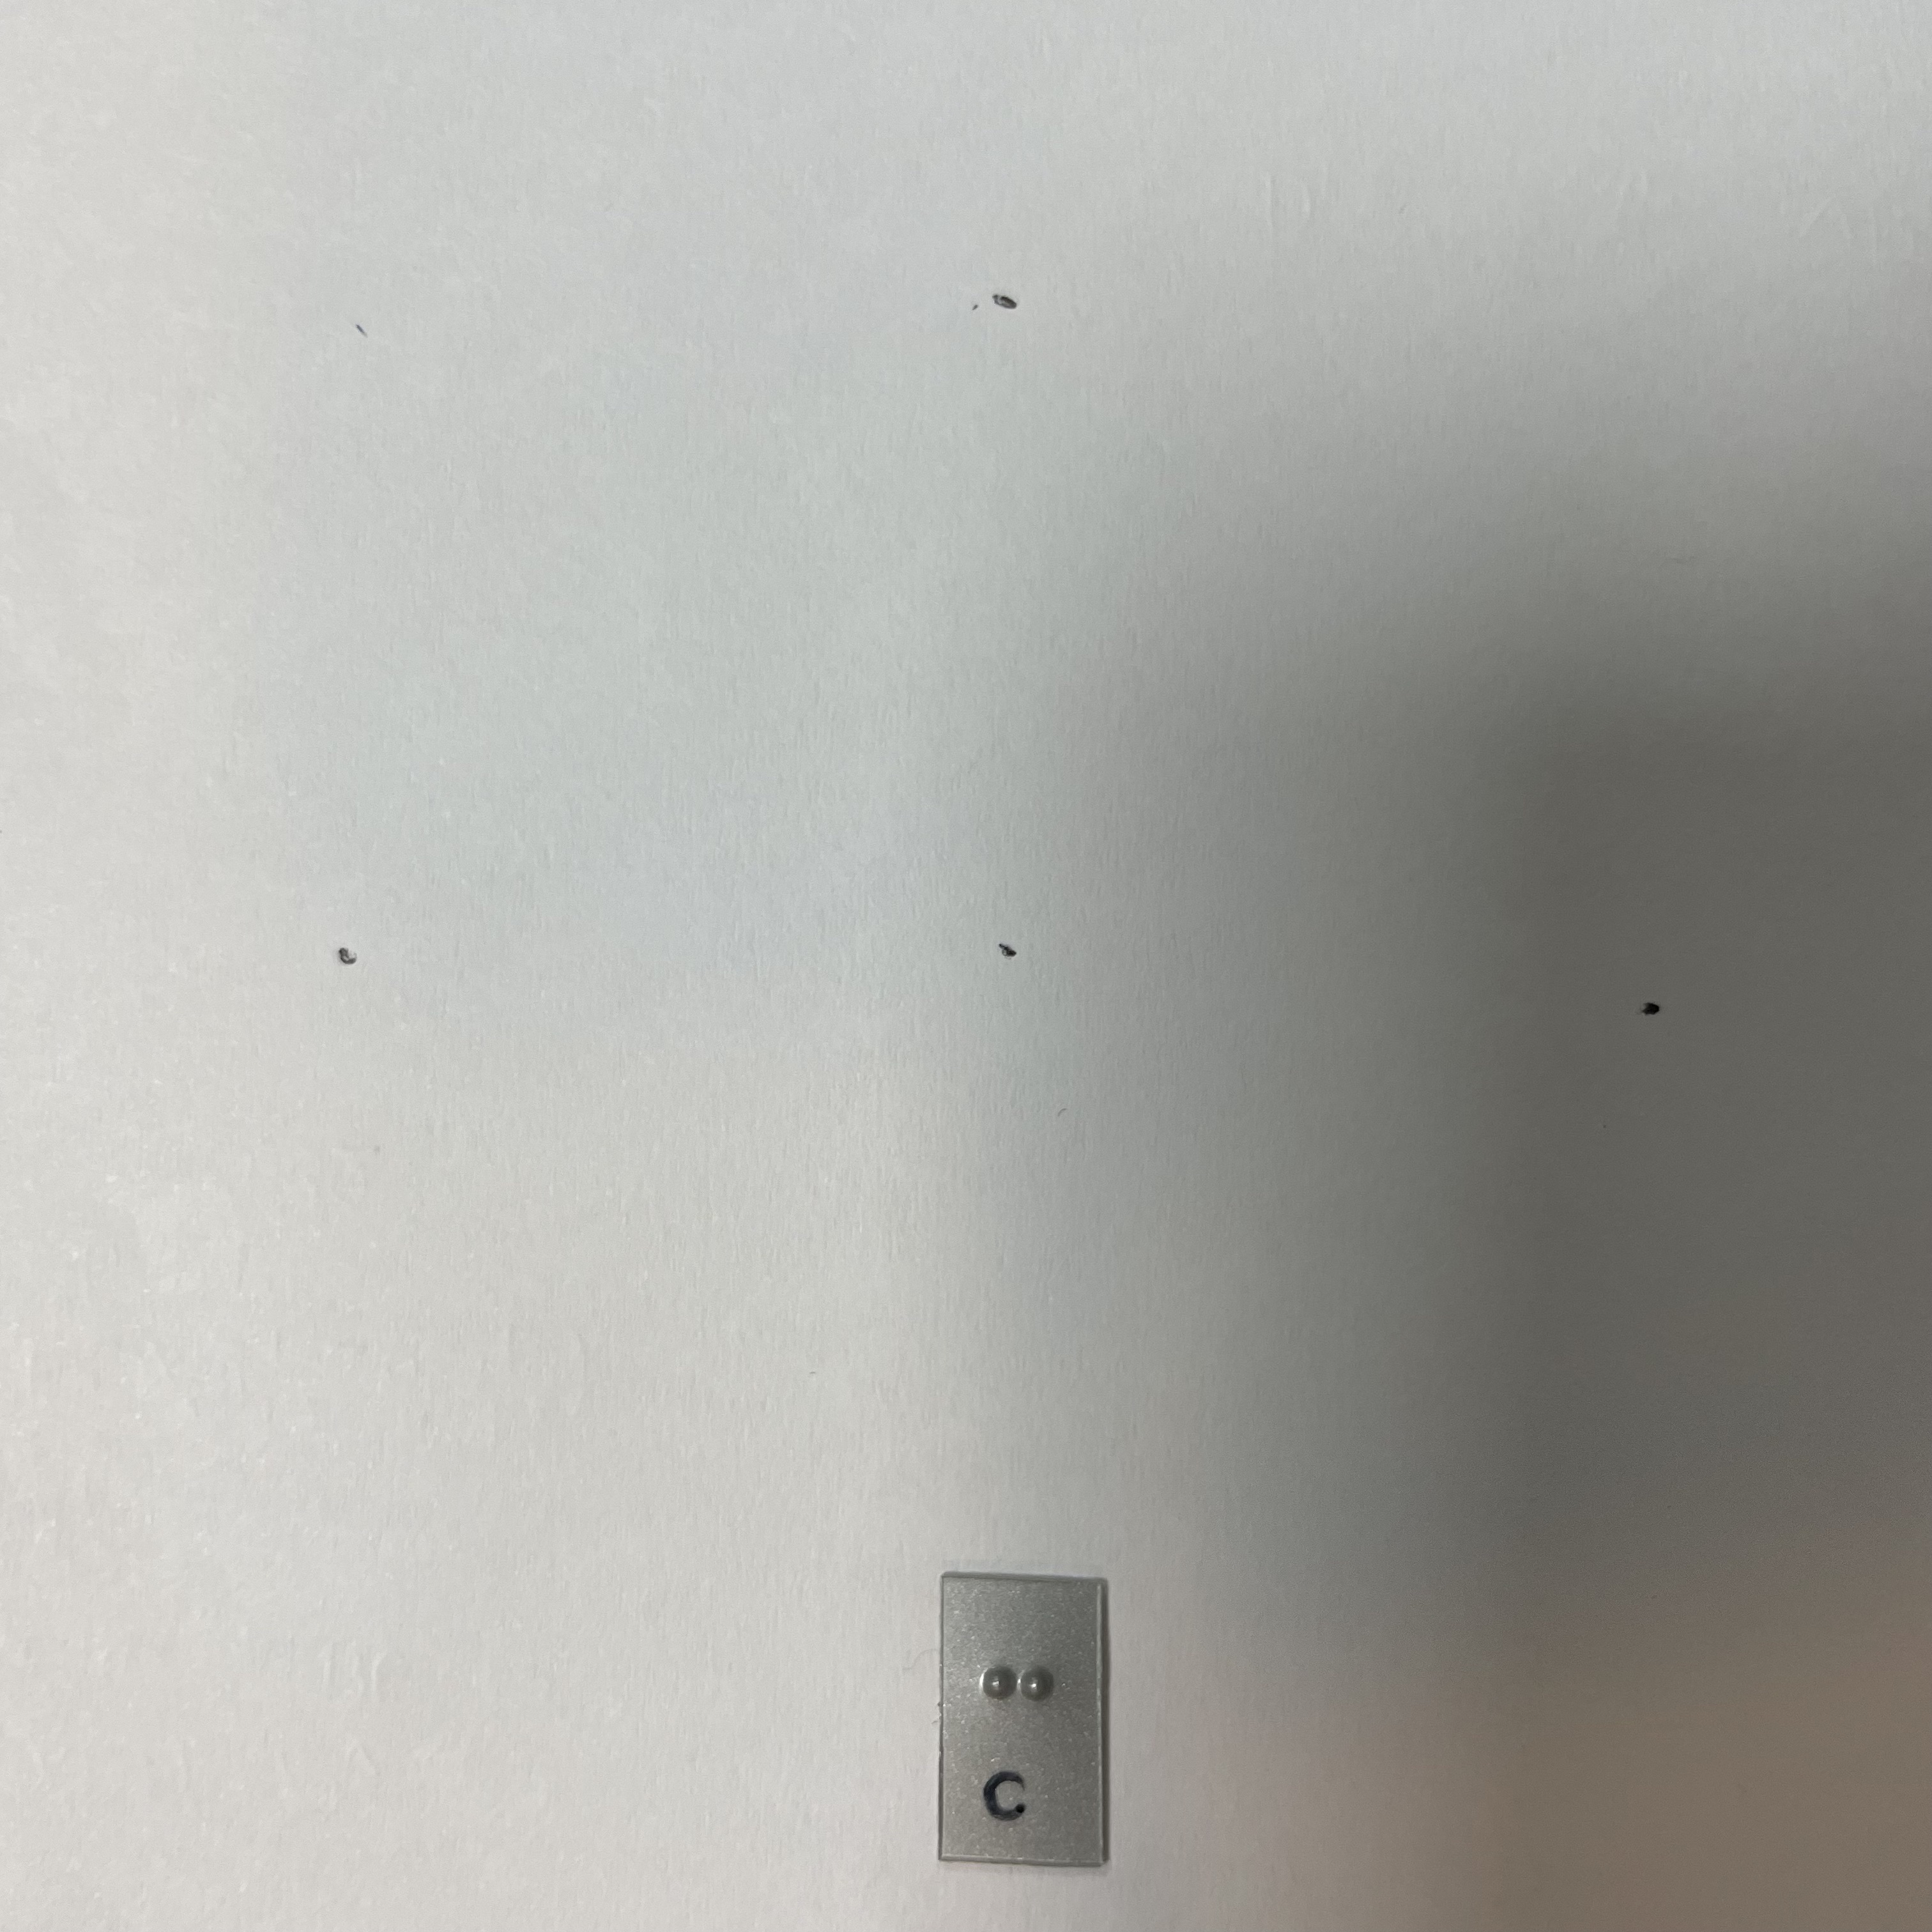c: (956, 1643, 1082, 1784)
